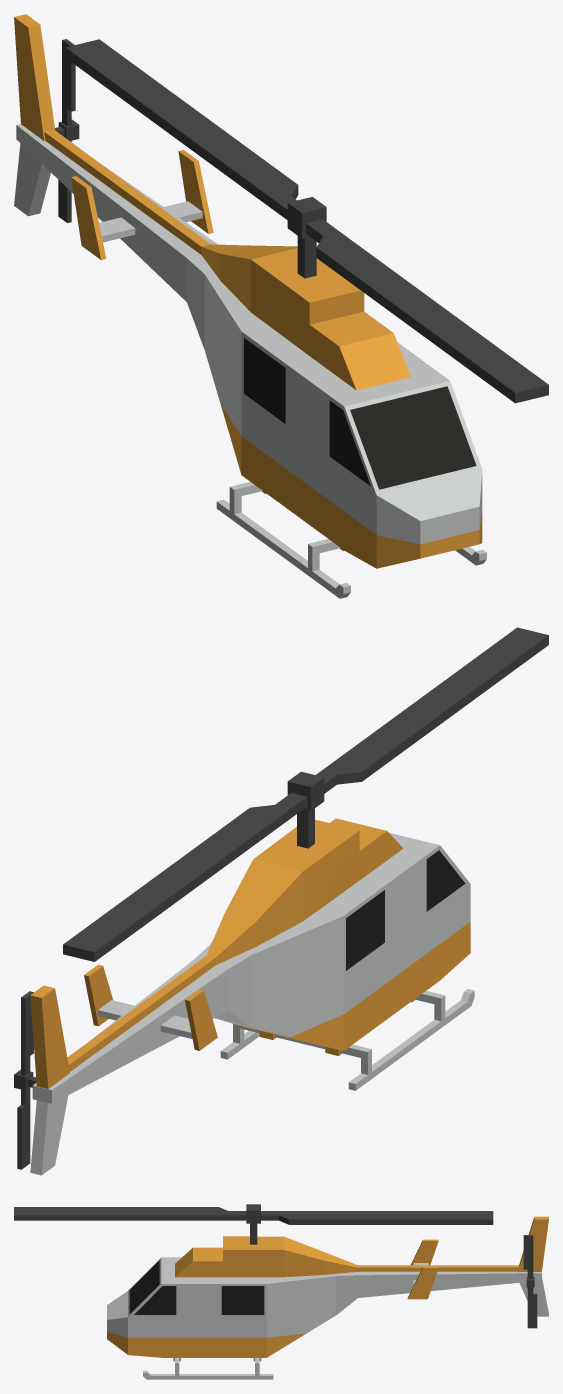
Rendered from Veh_Helicopter_01_Yellow.glb.
3 views of the same model, one above another, from view 1: azimuth 30°, elevation 25°; view 2: azimuth 150°, elevation 25°; view 3: azimuth 270°, elevation 25° (orthographic). The views are drawn at different scales.
Visible parts, largest first — view 1: Veh_Helicopter_01_Yellow, Rotor_Main, Rotor_Tail; view 2: Veh_Helicopter_01_Yellow, Rotor_Main, Rotor_Tail; view 3: Veh_Helicopter_01_Yellow, Rotor_Main, Rotor_Tail.
Boxes of the visible parts, box(x1,y1,x2,y2) form: Veh_Helicopter_01_Yellow: box(14, 14, 486, 598); Rotor_Main: box(65, 39, 548, 403); Rotor_Tail: box(55, 39, 79, 222); Veh_Helicopter_01_Yellow: box(30, 818, 474, 1175); Rotor_Main: box(63, 627, 548, 961); Rotor_Tail: box(14, 991, 36, 1169); Veh_Helicopter_01_Yellow: box(107, 1216, 548, 1379); Rotor_Main: box(14, 1204, 493, 1244); Rotor_Tail: box(523, 1235, 537, 1328).
Bounding box in the file's own units: 1.02 × 2.05 × 6.44.
Materials: 1 (1 with a texture image).
